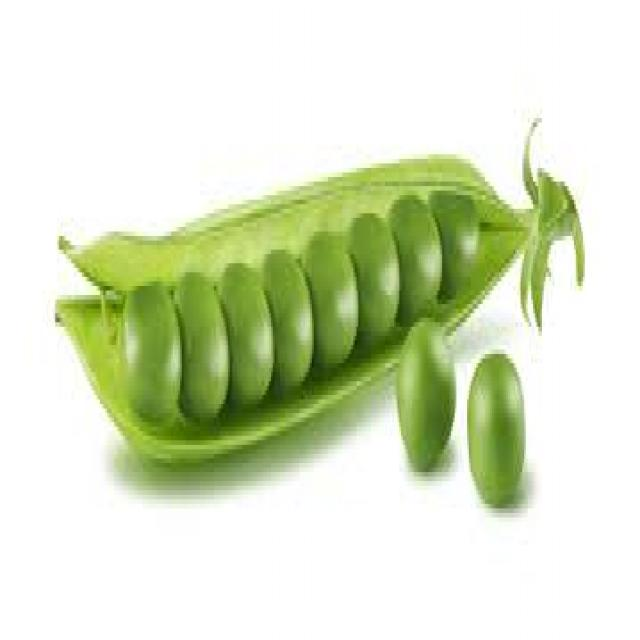organic waste: (50, 109, 583, 454), (396, 308, 453, 468), (171, 268, 227, 422), (466, 350, 522, 500), (260, 240, 312, 400), (120, 277, 178, 417), (299, 232, 356, 372), (214, 259, 271, 399), (385, 186, 442, 318), (346, 209, 399, 345), (424, 186, 480, 300)
